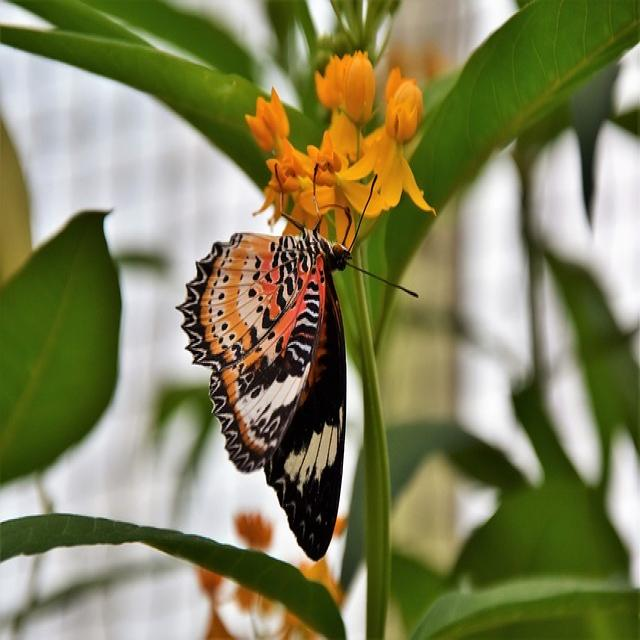butterfly: (178, 228, 374, 563)
